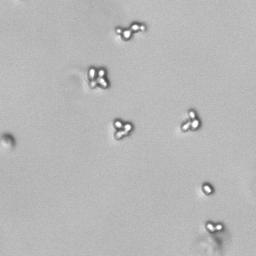budding: (181, 109, 200, 132), (206, 221, 223, 232)
cluster: (114, 22, 149, 41), (86, 65, 110, 90), (111, 117, 135, 140)
individual: (201, 182, 214, 195)
